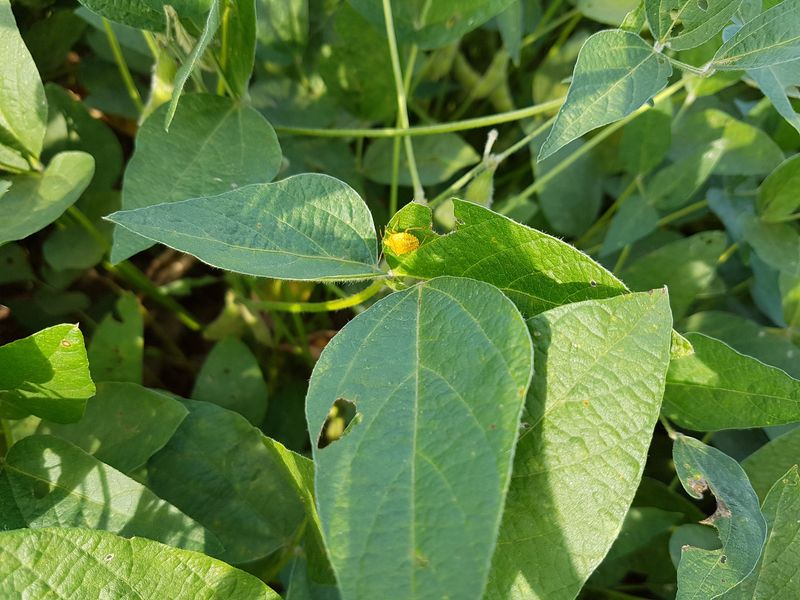Euschistus_heros_ninfa: (370, 214, 432, 270)
